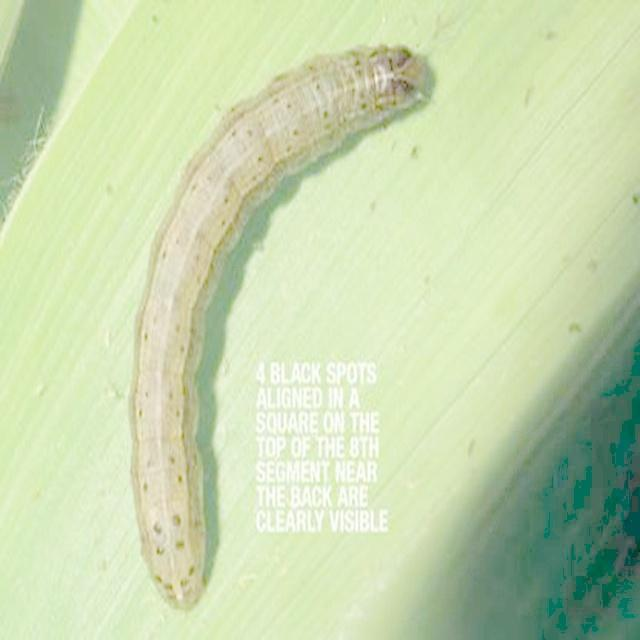worm: (128, 41, 433, 611)
